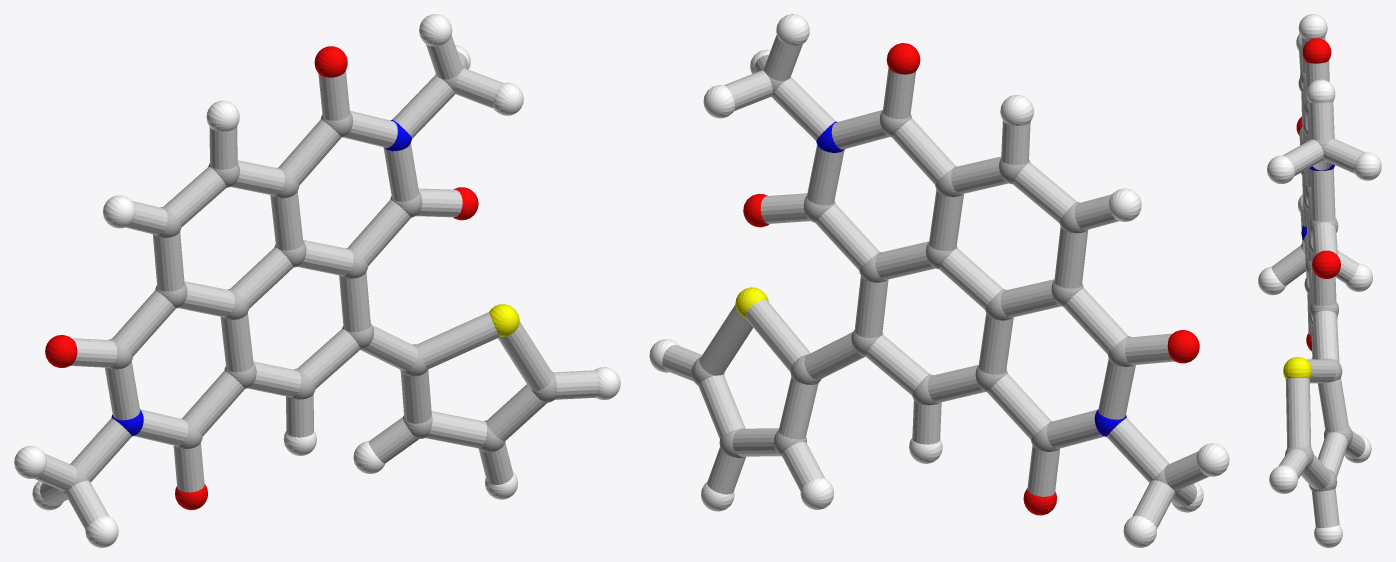
File: Dimethyl_Naphthalene_Dicarboximide_Phi_10_Theta_200_Thiophene.glb
3 views of the same model, side by side, from view 1: azimuth 30°, elevation 25°; view 2: azimuth 150°, elevation 25°; view 3: azimuth 270°, elevation 25° (orthographic). The views are drawn at different scales.
Visible parts, largest first — view 1: grp14119, grp7241, grp1, grp12309, grp13757, grp11585; view 2: grp14119, grp7241, grp1, grp12309, grp11585; view 3: grp14119, grp7241, grp1, grp12309, grp13757.
Part boxes in pixels (left/top/right/bottom): grp14119: left=34, top=35, right=598, bottom=529; grp7241: left=14, top=14, right=620, bottom=547; grp1: left=60, top=65, right=557, bottom=495; grp12309: left=45, top=46, right=478, bottom=510; grp13757: left=489, top=304, right=519, bottom=336; grp11585: left=111, top=119, right=411, bottom=436; grp14119: left=662, top=35, right=1209, bottom=528; grp7241: left=649, top=14, right=1229, bottom=547; grp1: left=691, top=67, right=1179, bottom=494; grp12309: left=743, top=43, right=1199, bottom=515; grp11585: left=816, top=121, right=1126, bottom=436; grp14119: left=1271, top=36, right=1365, bottom=527; grp7241: left=1258, top=14, right=1381, bottom=547; grp1: left=1285, top=70, right=1352, bottom=491; grp12309: left=1296, top=38, right=1340, bottom=351; grp13757: left=1283, top=357, right=1311, bottom=378.
Bounding box in the file's own units: 12.18 × 10 × 2.57.
